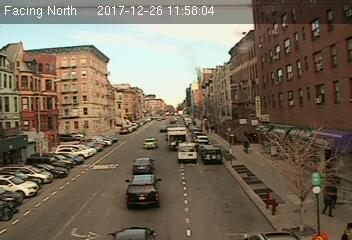car: (123, 172, 163, 208), (203, 146, 224, 165), (132, 157, 153, 173), (143, 137, 157, 149)
pedestrian: (320, 176, 336, 221), (242, 138, 250, 155)
truck: (177, 141, 198, 165), (166, 127, 186, 150)
